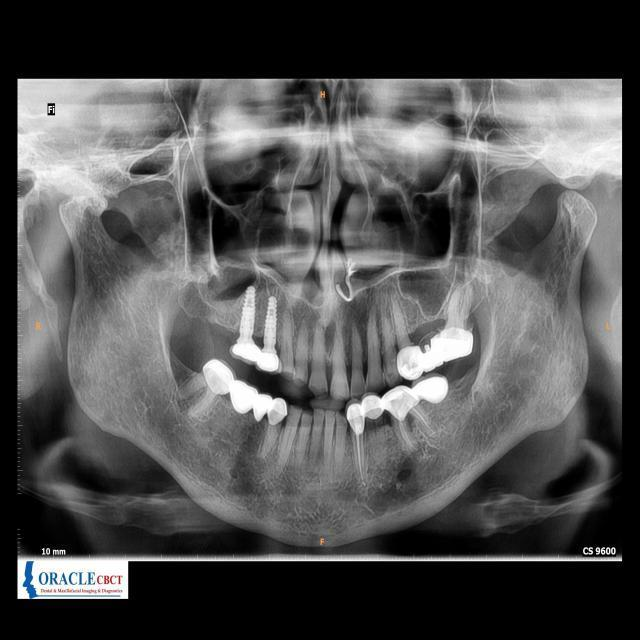implant: (234, 282, 259, 361), (258, 293, 282, 372)
kanal-tedavisi: (401, 411, 434, 438), (351, 437, 369, 486)
kaplama: (200, 358, 234, 398), (445, 325, 474, 363), (411, 374, 448, 403), (386, 386, 416, 417), (396, 347, 423, 378), (345, 400, 365, 433), (267, 398, 287, 425)
kok-enfeksiyonu: (389, 460, 429, 489)
kopru: (214, 373, 277, 440), (415, 329, 449, 375), (356, 395, 394, 425)
